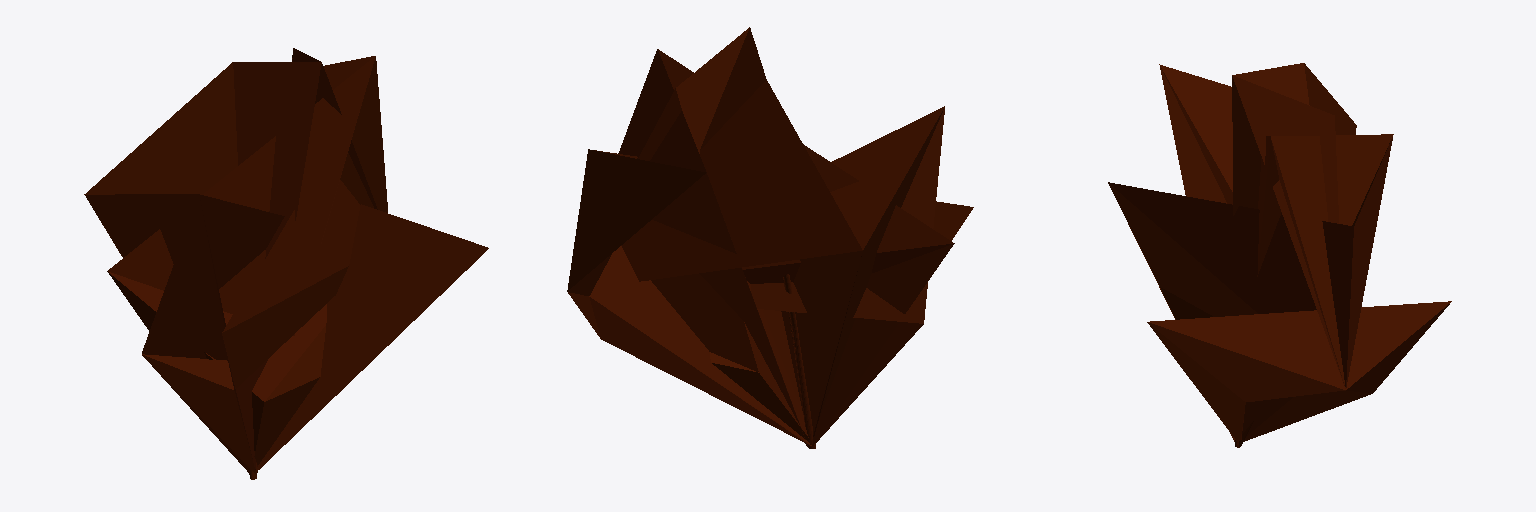
The model's file is Bush.obj.
3 views of the same model, side by side, from view 1: azimuth 30°, elevation 25°; view 2: azimuth 150°, elevation 25°; view 3: azimuth 270°, elevation 25° (orthographic).
Visible parts, largest first — view 1: Cylinder002; view 2: Cylinder002; view 3: Cylinder002.
Part boxes in pixels (x1,y1,x2,y2): Cylinder002: (84, 48, 488, 474); Cylinder002: (567, 27, 973, 448); Cylinder002: (1108, 63, 1451, 447).
Bounding box in the file's own units: 114643 × 131437 × 101977.